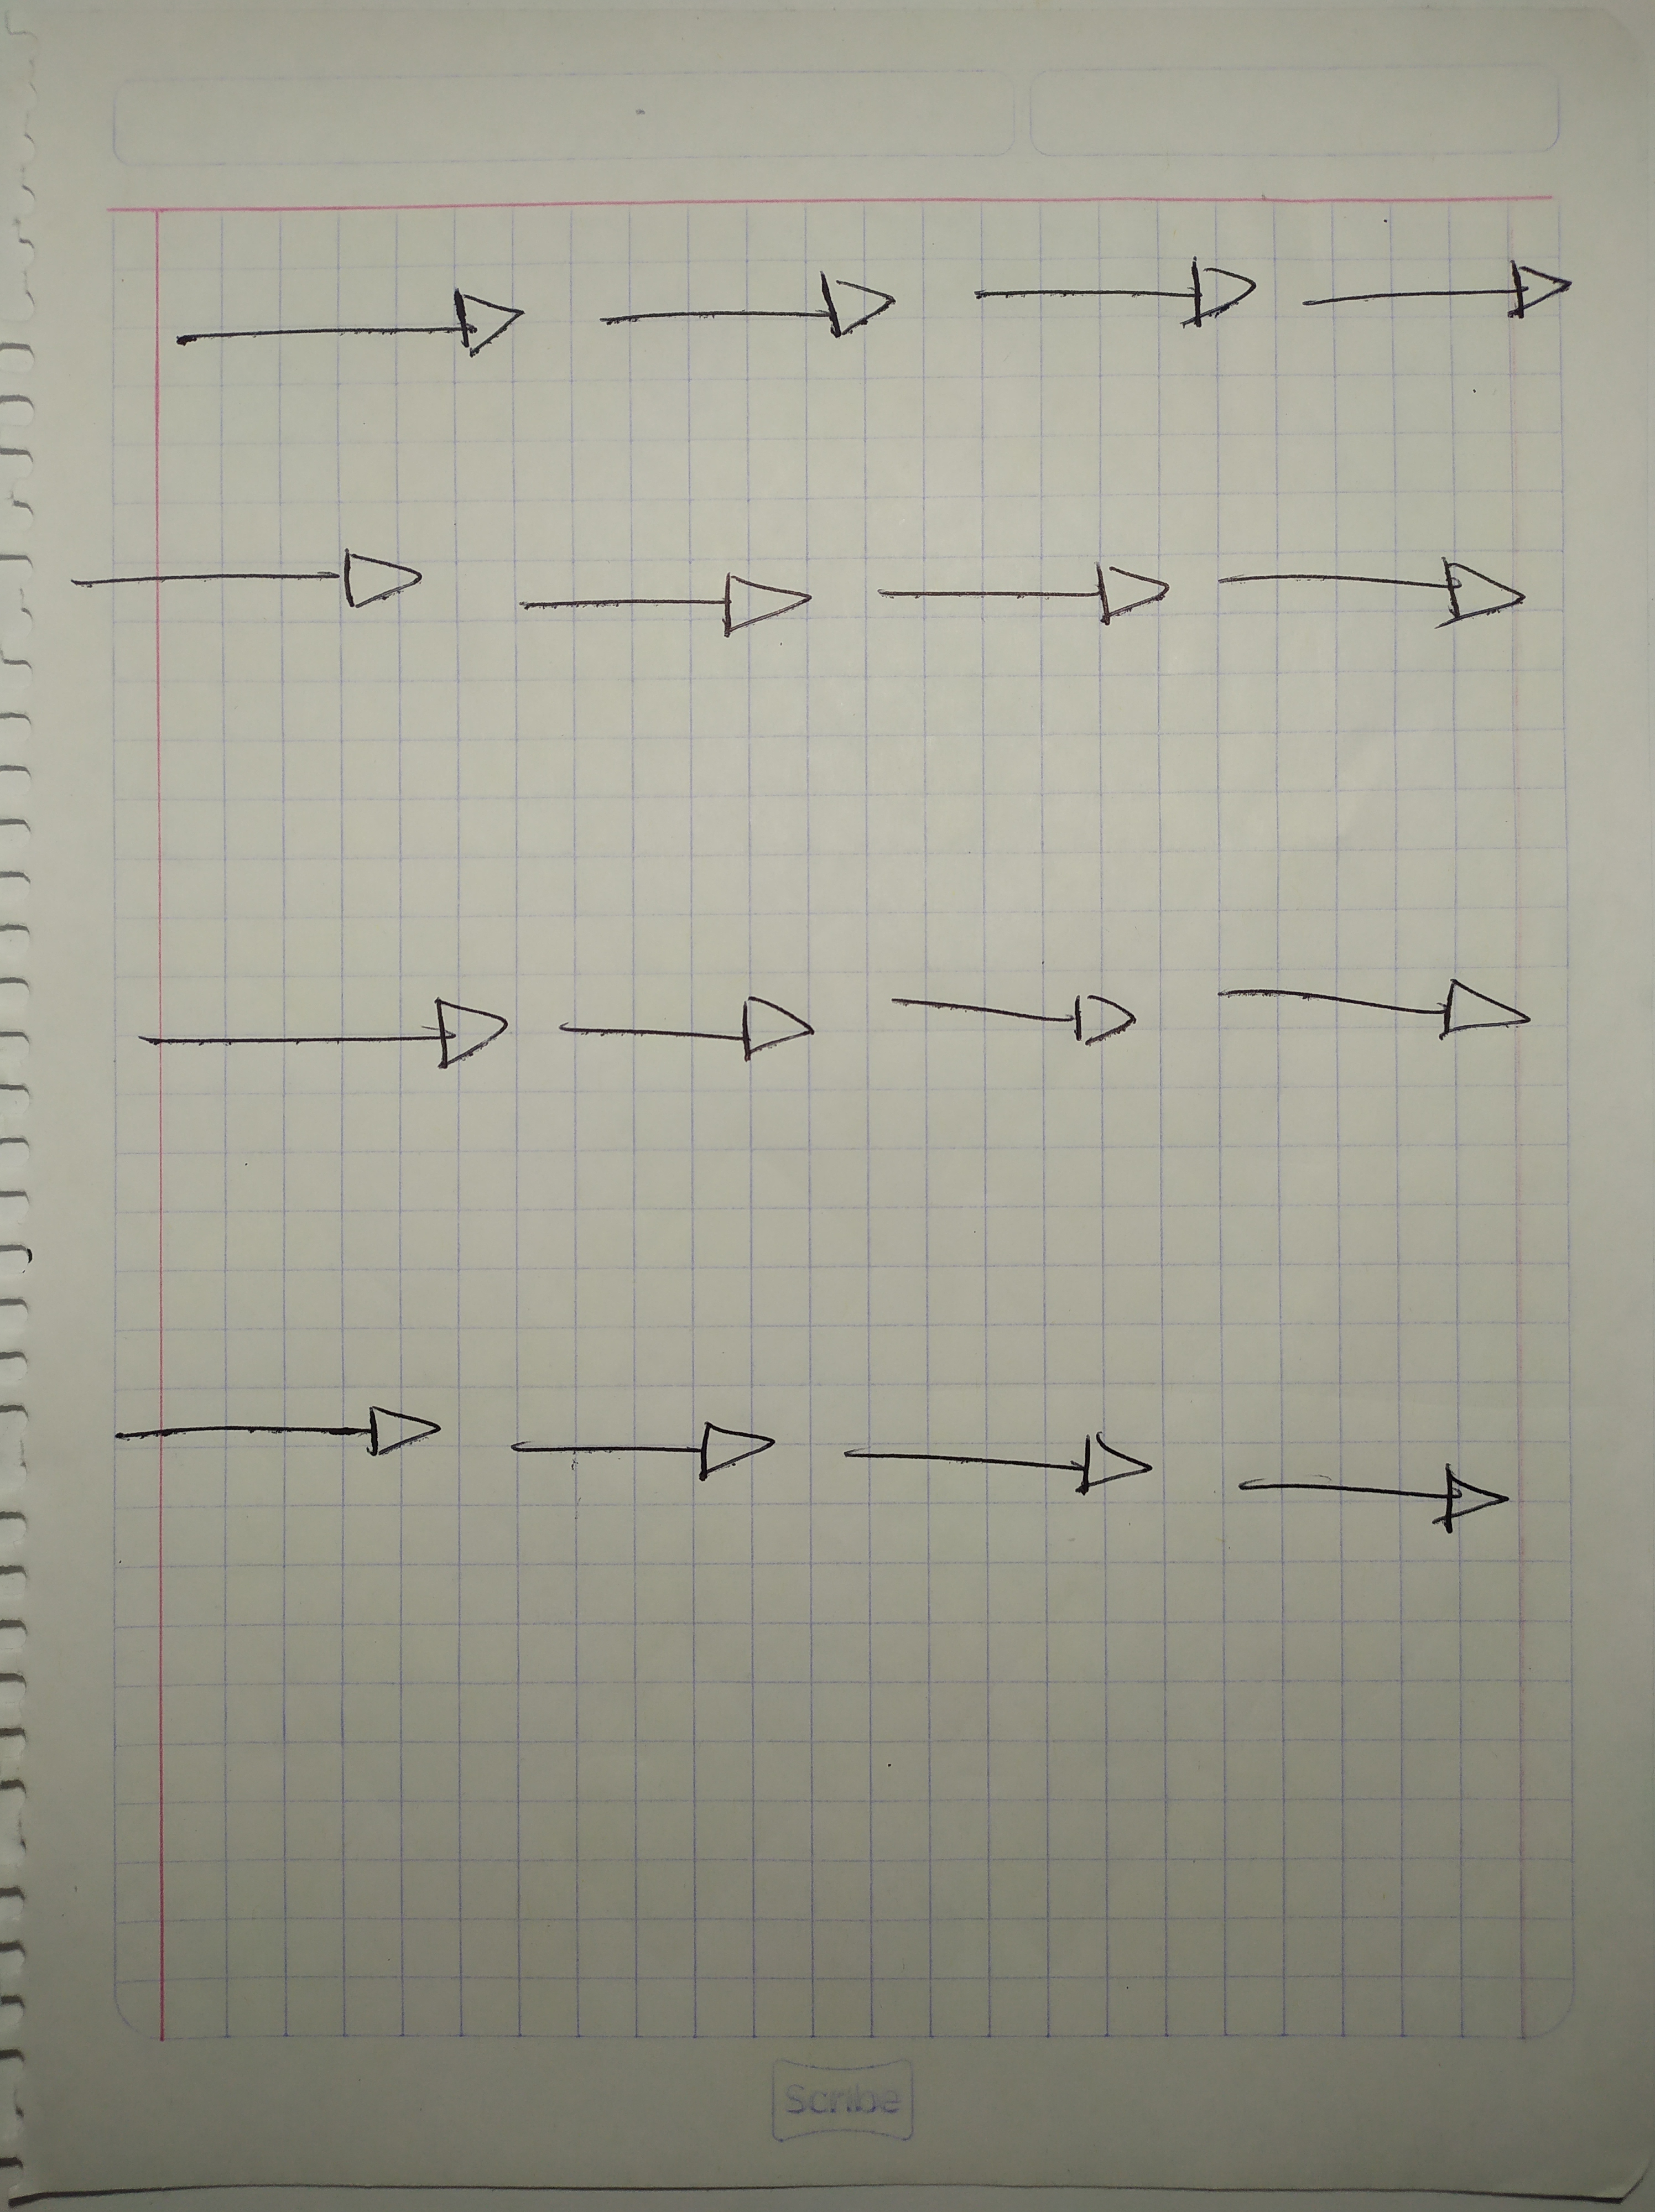arrow_line_right: (97, 975, 528, 1098), (92, 1378, 462, 1500), (821, 1411, 1170, 1536), (1201, 530, 1552, 650), (939, 233, 1266, 360), (1206, 1428, 1533, 1553), (854, 532, 1187, 653), (148, 281, 542, 384), (1191, 950, 1542, 1065), (483, 547, 833, 660), (859, 961, 1166, 1081), (570, 264, 918, 363), (1271, 233, 1598, 334), (490, 1402, 794, 1510), (56, 546, 442, 622), (548, 977, 821, 1083)
